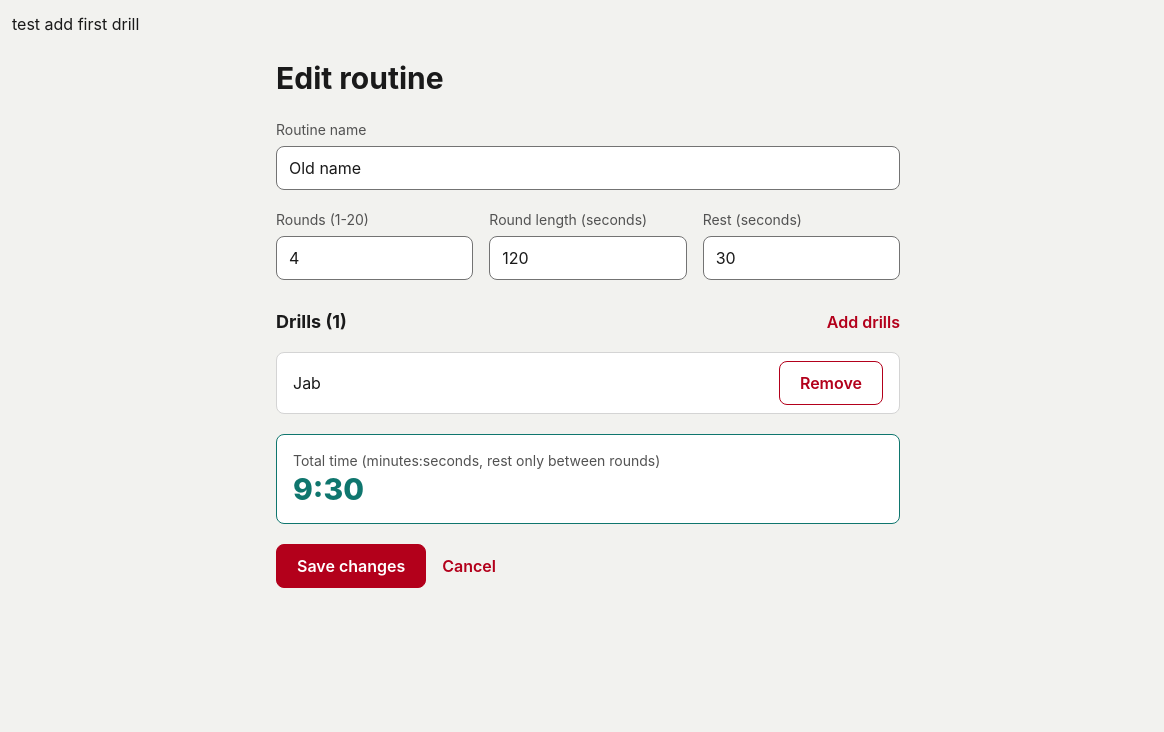
it: RoutineForm (edit routine) › loads the routine into the form and updates it
Expected: the heading "Edit routine" is shown, [276, 60, 444, 96]
Expected: the field labelled "Routine name" holds "Old name", [276, 146, 900, 190]
Click the button "Save changes". click: point(351, 566)
box: [276, 544, 426, 588]
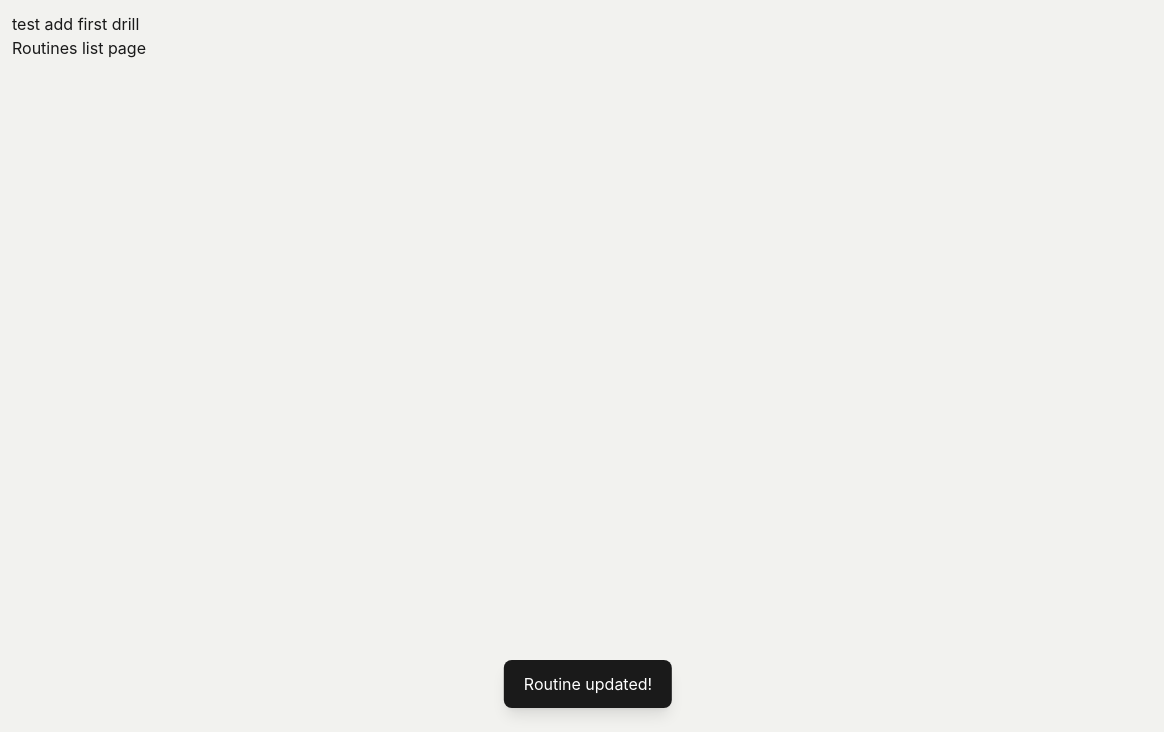
Now the text "Routines list page" is shown, box [12, 38, 146, 58]
